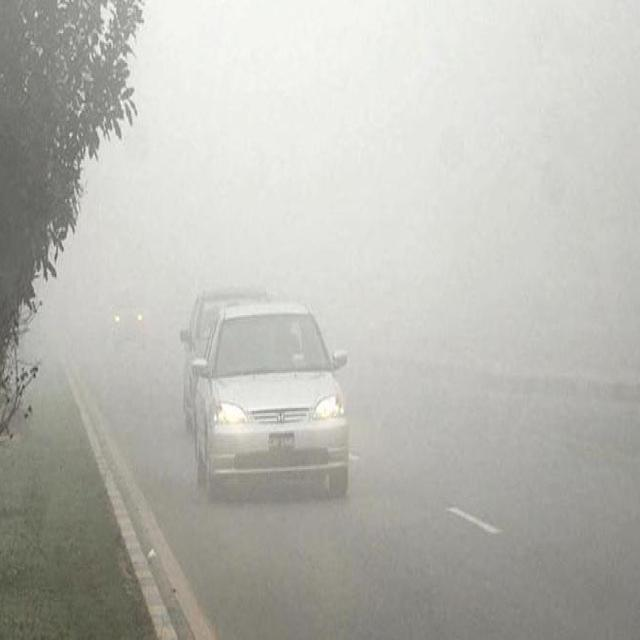Car: (188, 290, 354, 504)
